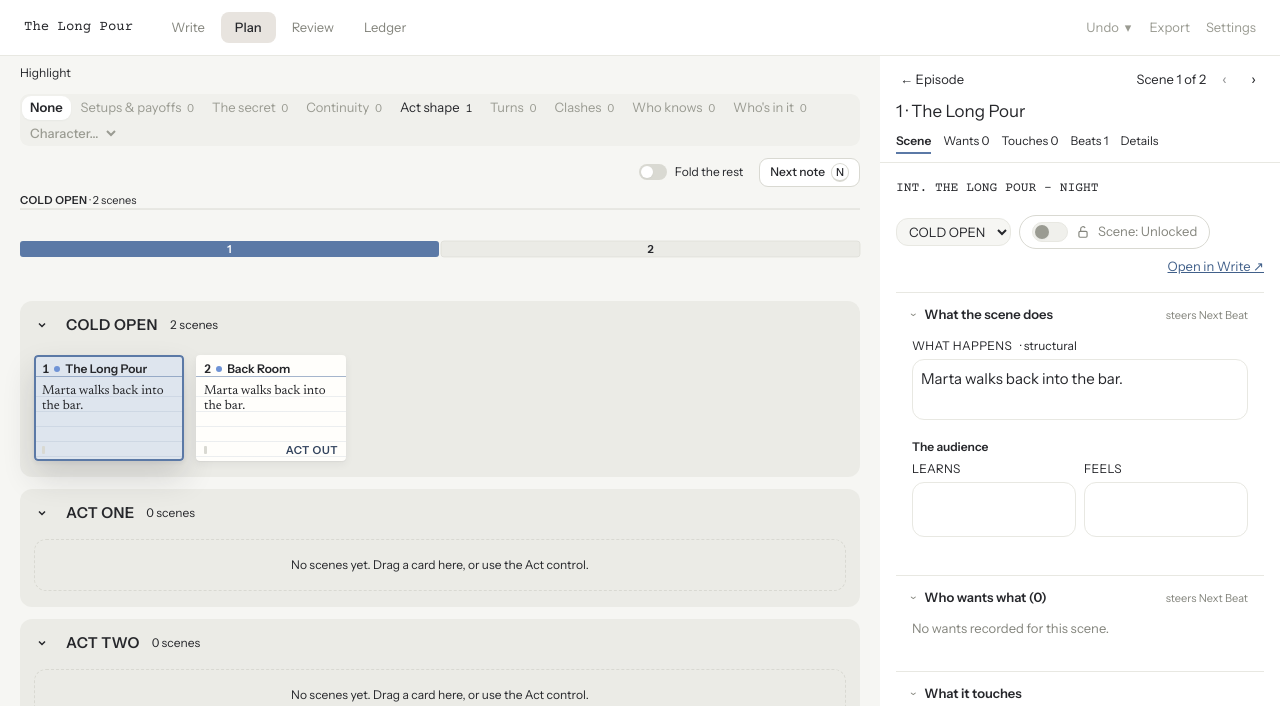
Test case: PlanScreen › a failed Open Review shows a danger toast, not a line above the board
Type " Again." into the text box named "What happens" at (1080, 389), box [912,358,1248,420]
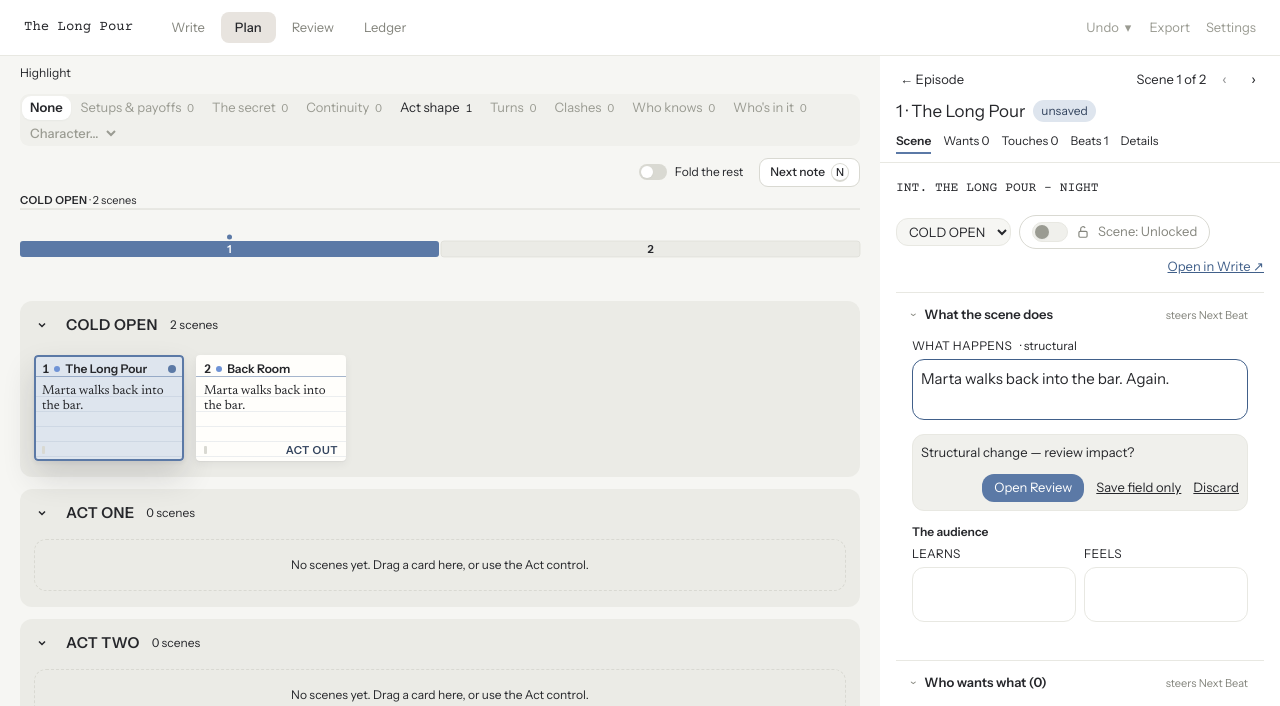
Click the button "Open Review" at (1033, 488), box [982,474,1084,502]
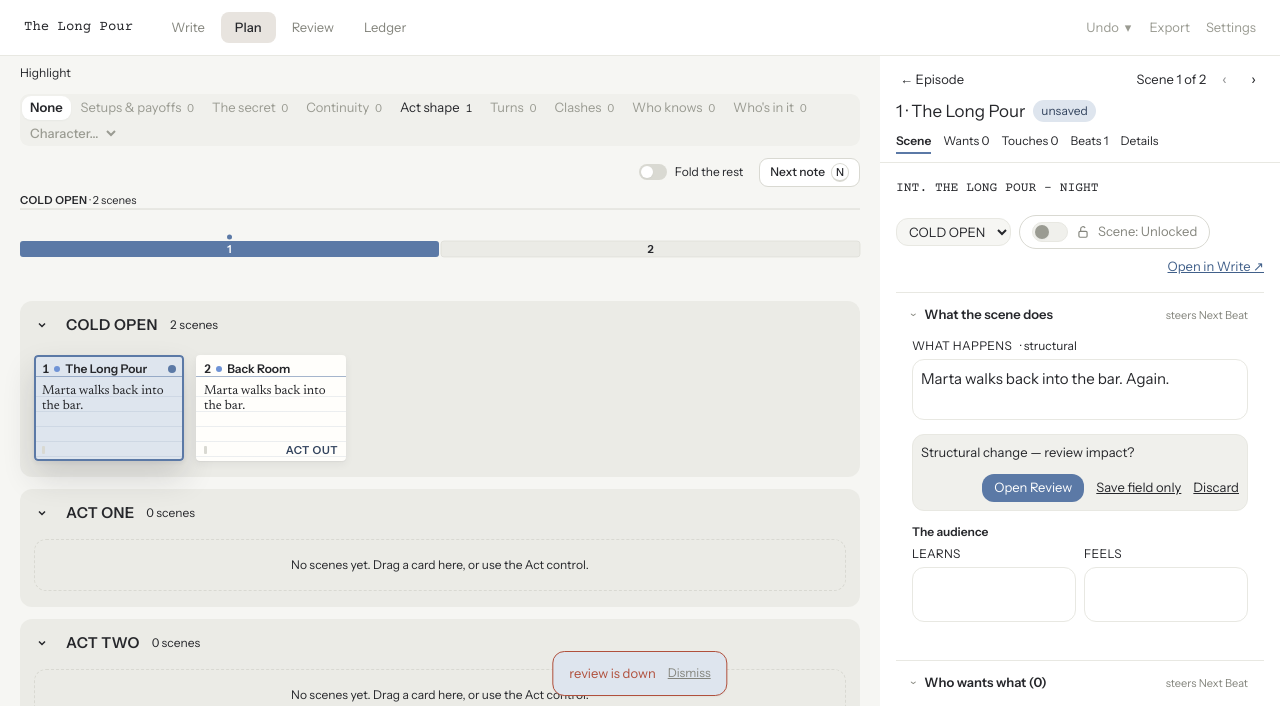
expect the text "review is down" is shown: met, box [569,664,656,680]
